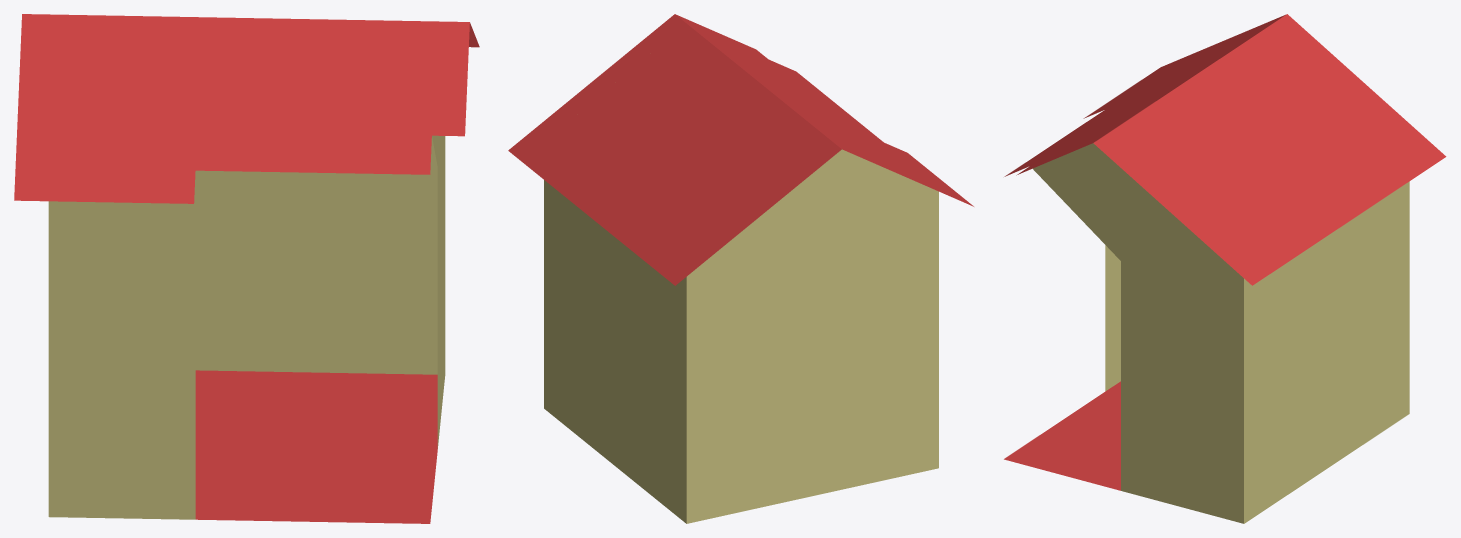
The picture shows the model from 3 angles, left to right: view 1: azimuth 30°, elevation 25°; view 2: azimuth 150°, elevation 25°; view 3: azimuth 270°, elevation 25°; orthographic projection. The views are drawn at different scales.
Size of the model in its own units: 13.65 by 12.41 by 10.93.
